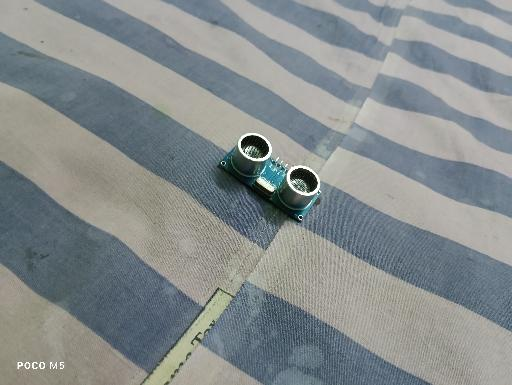sensor: (219, 133, 322, 223)
